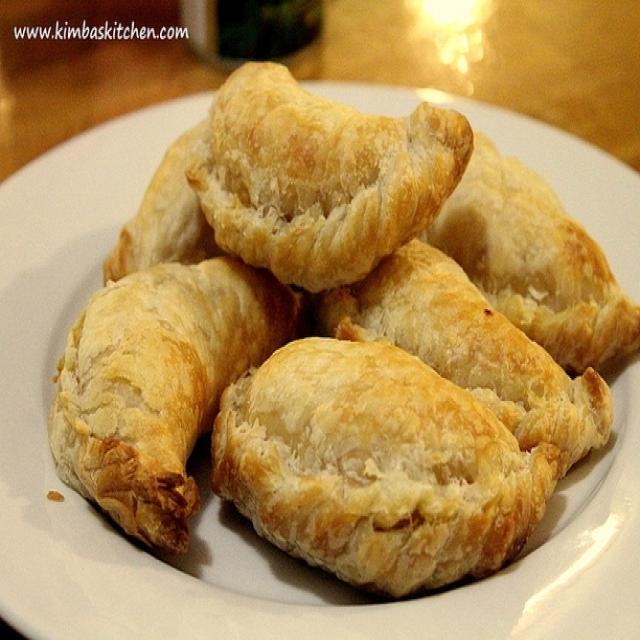炸货点心: (45, 61, 617, 584)
